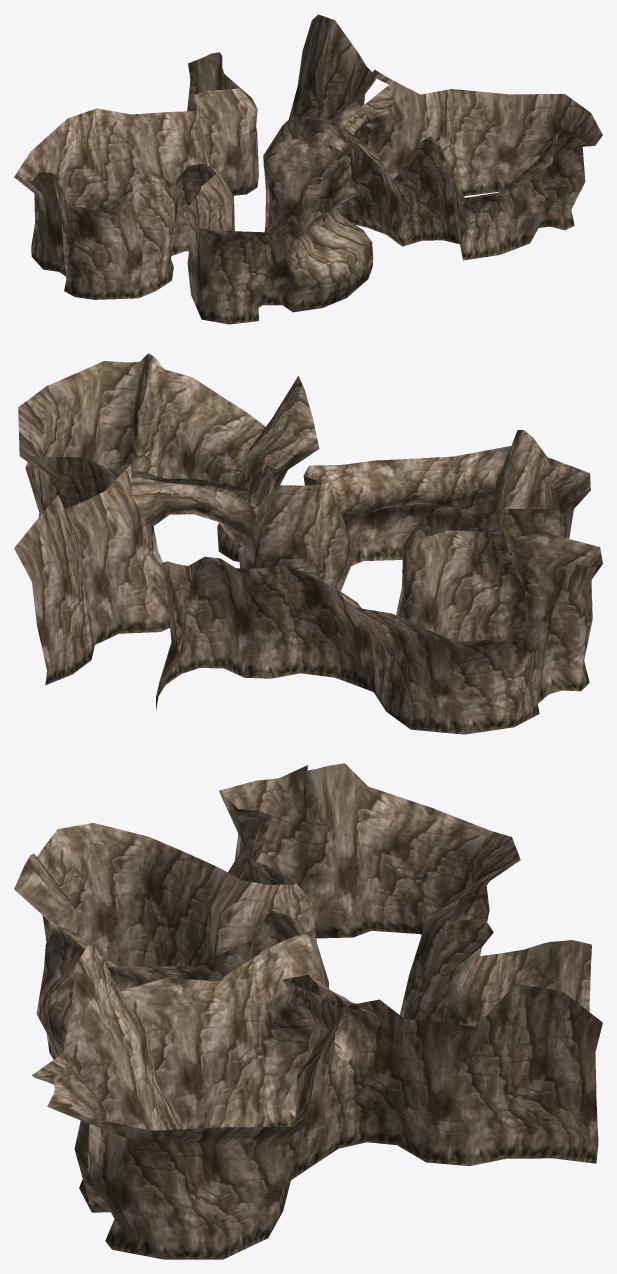
Rendered from OVERHILL_A_01_LINE16.fbx.
3 renders of one model, top to bottom at view 1: azimuth 30°, elevation 25°; view 2: azimuth 150°, elevation 25°; view 3: azimuth 270°, elevation 25°, orthographic. The views are drawn at different scales.
Visible parts, largest first — view 1: OVERHILL_A_01_LINE16; view 2: OVERHILL_A_01_LINE16; view 3: OVERHILL_A_01_LINE16.
Boxes of the visible parts, x1,y1,x2,y2 form: OVERHILL_A_01_LINE16: (14,14,602,324); OVERHILL_A_01_LINE16: (14,353,602,734); OVERHILL_A_01_LINE16: (14,763,602,1259).
Size of the model in its own units: 271600 by 70873 by 193283.
2 materials, 2 textured.
